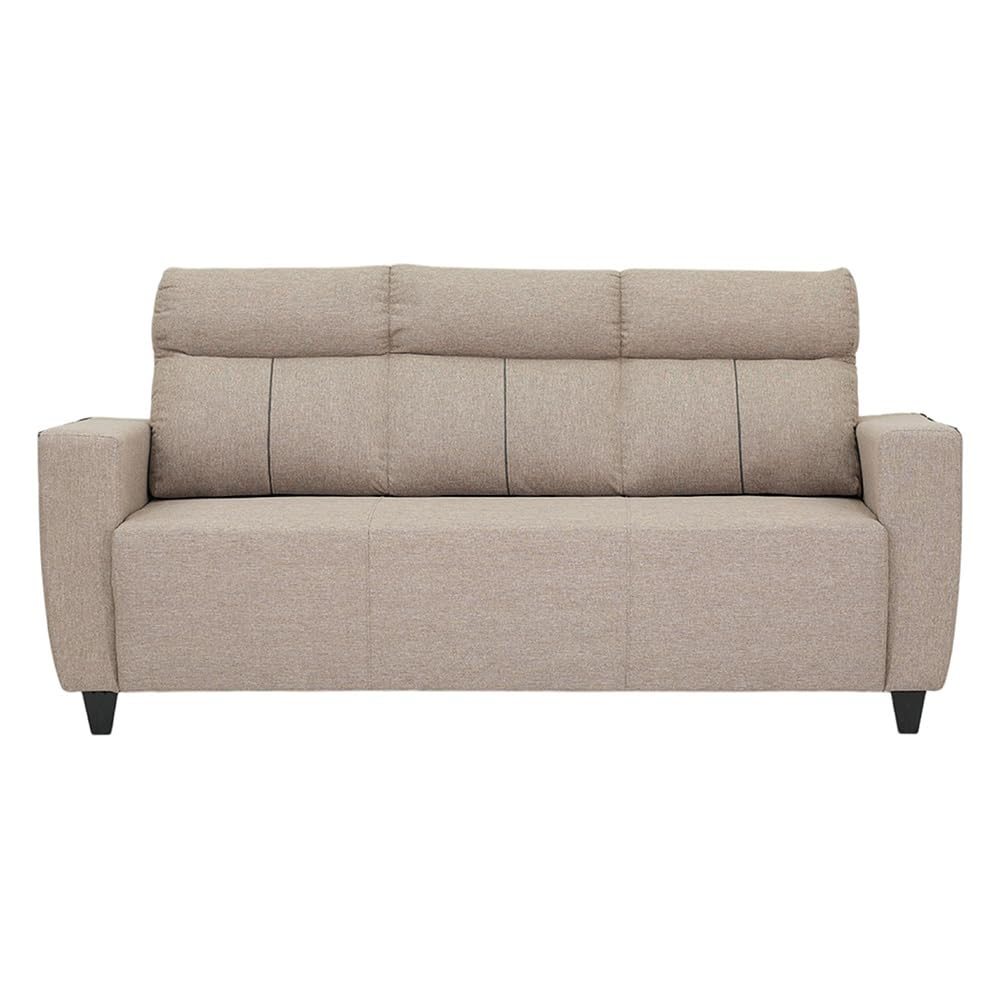3seatersofa: (39, 264, 961, 732)
backrest: (149, 265, 860, 498)
leftarmrest: (858, 414, 960, 694)
leg: (82, 691, 116, 734), (891, 691, 925, 733)
rightarmrest: (40, 418, 148, 692)
seat: (110, 497, 886, 691)
